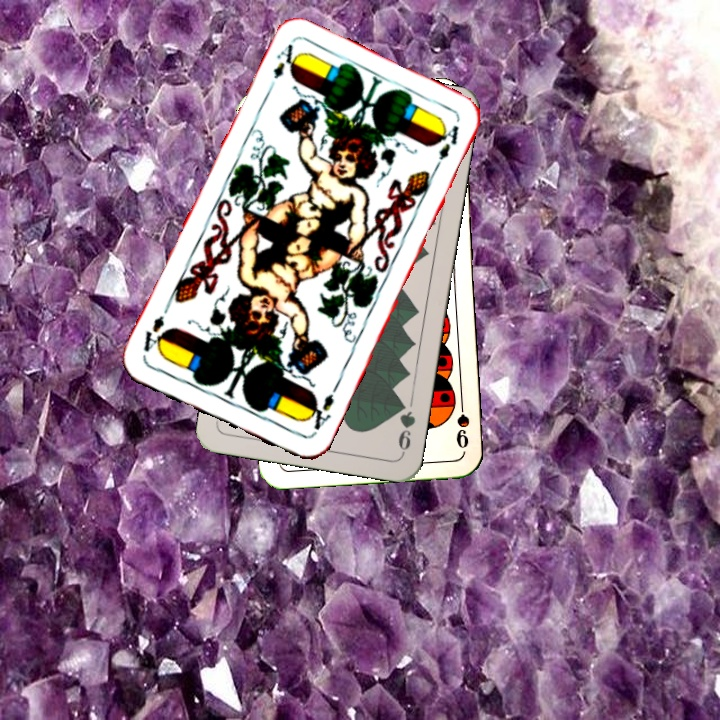EA: (303, 389, 337, 438), (268, 39, 302, 82)
G9: (394, 396, 418, 456)
S9: (452, 392, 472, 452)
